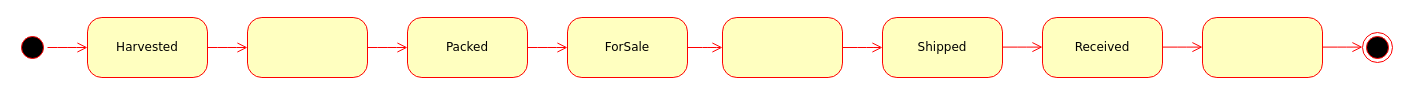
This 1410x95 diagram has some shape labels left out. Each missing label, with the centre of its shape:
Proccessed: [307,47]
Purchased: [1262,47]
Sold: [782,47]
